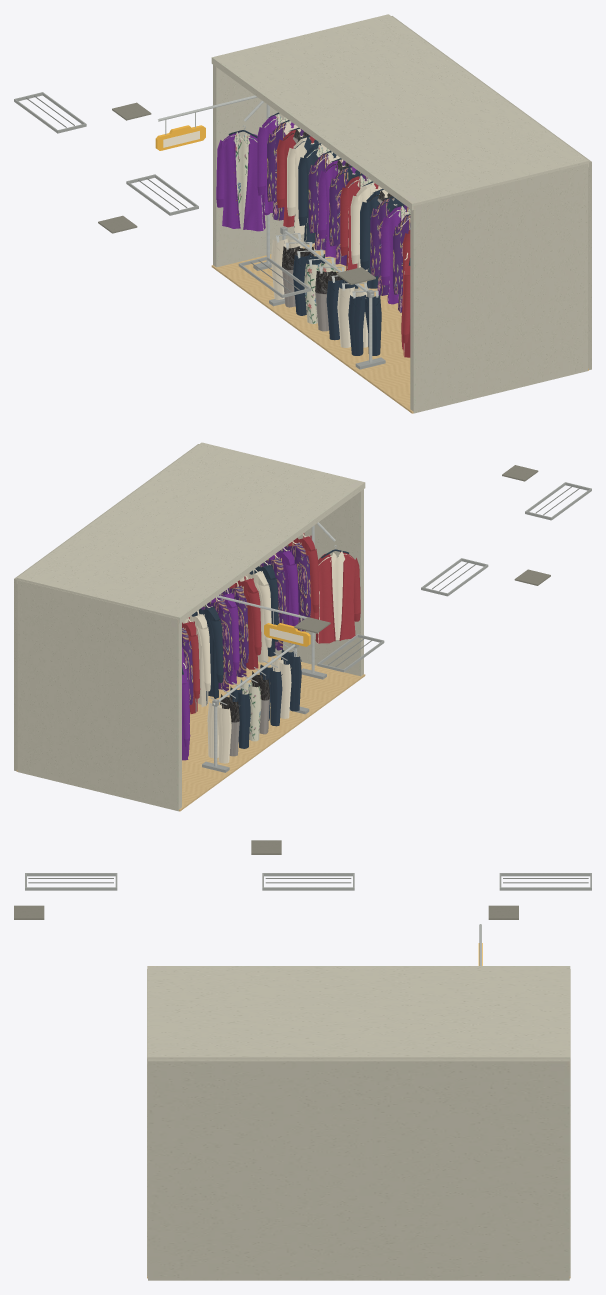
File: knit-front.glb
The picture shows the model from 3 angles, top to bottom: view 1: azimuth 30°, elevation 25°; view 2: azimuth 150°, elevation 25°; view 3: azimuth 270°, elevation 25°; orthographic projection. The views are drawn at different scales.
Parts seen in each view (by area): view 1: KnitFront; view 2: KnitFront; view 3: KnitFront.
Boxes of the visible parts, x1,y1,x2,y2 form: KnitFront: [14, 14, 591, 413]; KnitFront: [14, 442, 591, 811]; KnitFront: [14, 840, 591, 1280].
Size of the model in its own units: 6.38 by 2.97 by 7.02.
Materials: 1 (1 with a texture image).
